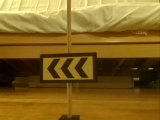left: (40, 55, 96, 81)
